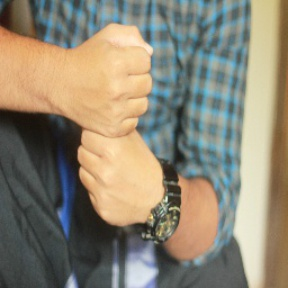G: (64, 16, 168, 231)
